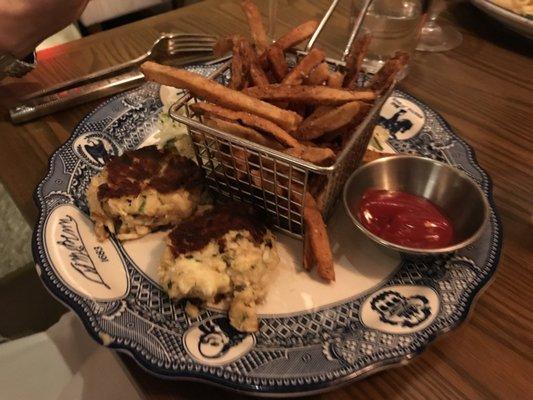sushi: (341, 153, 487, 259)
